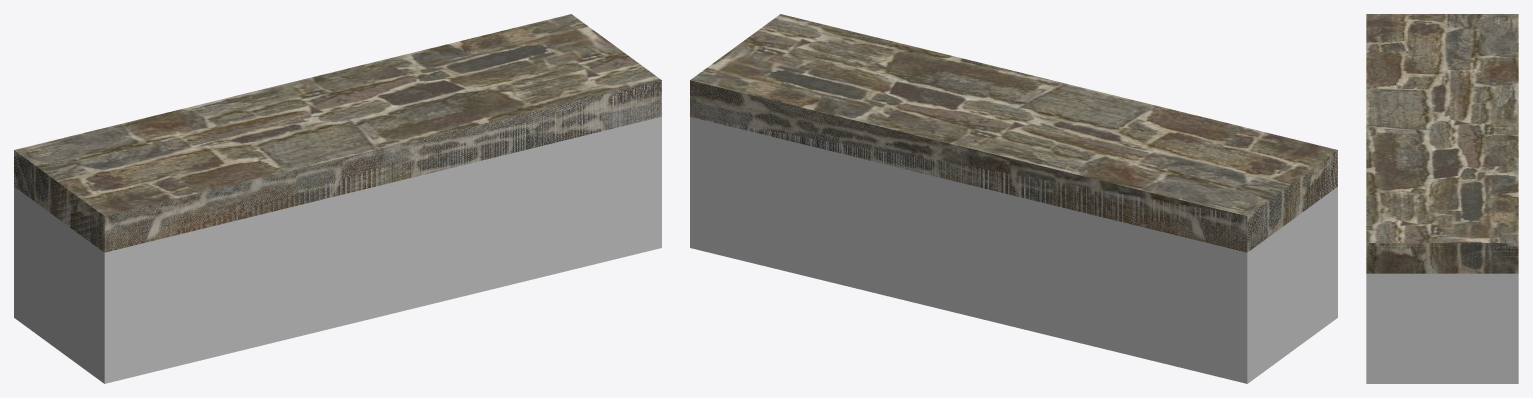
Rendered from prop_seat_stone_bench_tex.glb.
3 renders of one model, left to right at view 1: azimuth 30°, elevation 25°; view 2: azimuth 150°, elevation 25°; view 3: azimuth 270°, elevation 25°, orthographic. The views are drawn at different scales.
Parts seen in each view (by area): view 1: col_seat_bench, bench_stone_slab; view 2: col_seat_bench, bench_stone_slab; view 3: bench_stone_slab, col_seat_bench.
Part boxes in pixels (box(x1,y1,x2,y2)): col_seat_bench: box(14, 80, 661, 383); bench_stone_slab: box(14, 14, 661, 252); col_seat_bench: box(690, 80, 1337, 383); bench_stone_slab: box(690, 14, 1337, 252); bench_stone_slab: box(1366, 14, 1518, 273); col_seat_bench: box(1366, 243, 1518, 383).
Size of the model in its own units: 1.6 by 0.46 by 0.45.
Materials: 1 (1 with a texture image).
